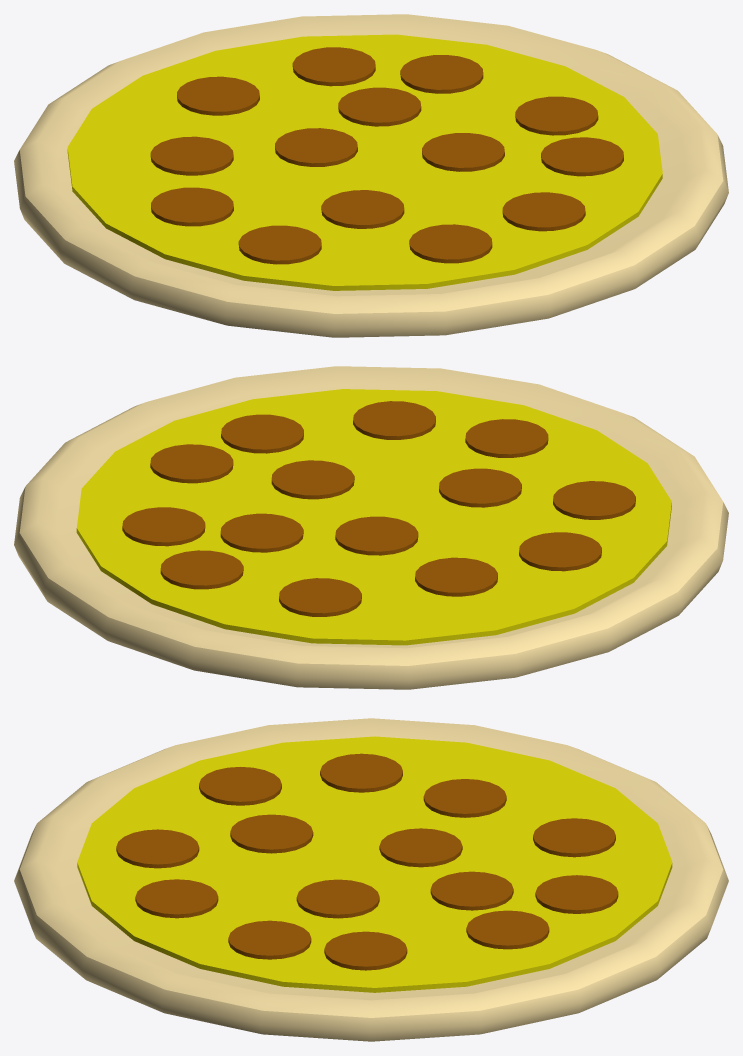
File: Pizza_Pepperoni.fbx
3 views of the same model, one above another, from view 1: azimuth 30°, elevation 25°; view 2: azimuth 150°, elevation 25°; view 3: azimuth 270°, elevation 25° (orthographic).
Parts seen in each view (by area): view 1: ost, deig, Peproni1; view 2: ost, deig, Peproni1; view 3: ost, deig, Peproni1.
Boxes of the visible parts, x1,y1,x2,y2 form: ost: (67, 34, 662, 290); deig: (14, 14, 728, 337); Peproni1: (150, 47, 623, 264); ost: (76, 389, 671, 645); deig: (14, 366, 728, 689); Peproni1: (122, 401, 635, 616); ost: (77, 736, 672, 992); deig: (14, 718, 728, 1041); Peproni1: (116, 753, 618, 970).
Size of the model in its own units: 11.4 by 0.586 by 11.4.
